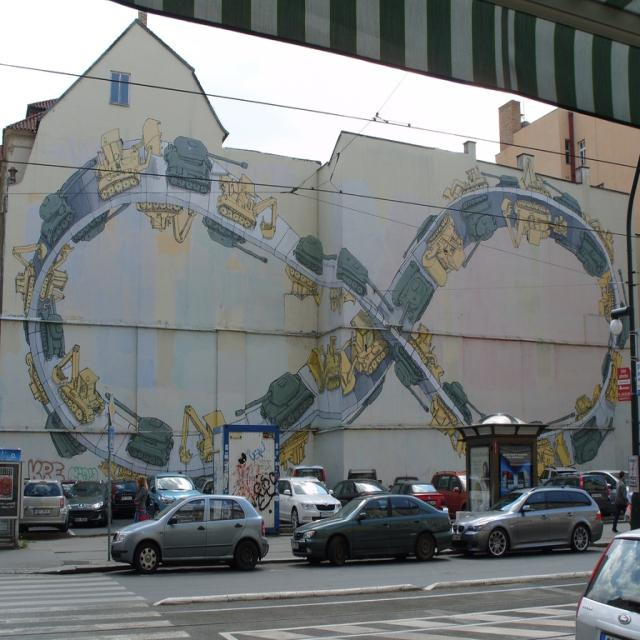car: (109, 492, 267, 571), (289, 494, 456, 563), (452, 485, 602, 554), (21, 479, 66, 525)
